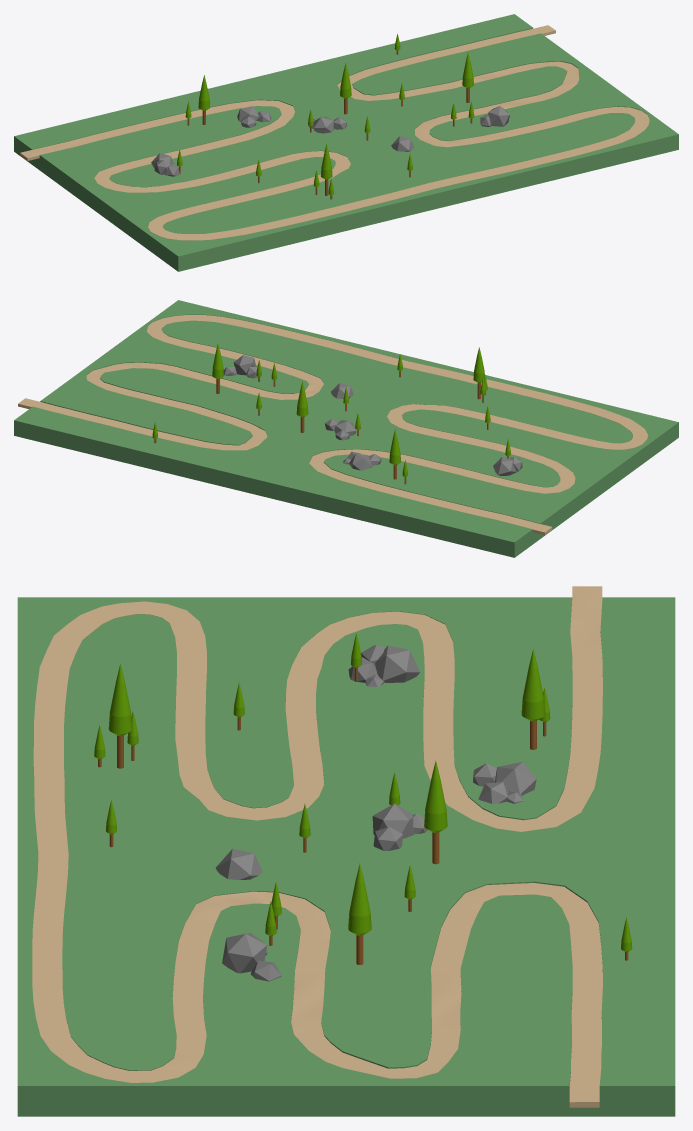
Rendered from Base Map.fbx.
The picture shows the model from 3 angles, top to bottom: view 1: azimuth 30°, elevation 25°; view 2: azimuth 150°, elevation 25°; view 3: azimuth 270°, elevation 25°; orthographic projection. The views are drawn at different scales.
Parts seen in each view (by area): view 1: Cube, Path; view 2: Cube, Path; view 3: Cube, Path, Icosphere.012, Icosphere.006, Cone, Cone.004, Cone.003, Cone.015, Icosphere.009, Icosphere.002, Icosphere.008.
Part boxes in pixels (left/top/right/bottom): Cube: left=14, top=14, right=678, bottom=271; Path: left=20, top=25, right=649, bottom=240; Cube: left=14, top=300, right=678, bottom=557; Path: left=18, top=315, right=647, bottom=535; Cube: left=17, top=597, right=675, bottom=1116; Path: left=32, top=586, right=602, bottom=1107; Icosphere.012: left=222, top=933, right=267, bottom=973; Icosphere.006: left=375, top=645, right=419, bottom=682; Cone: left=108, top=663, right=132, bottom=736; Cone.004: left=424, top=760, right=447, bottom=832; Cone.003: left=348, top=863, right=371, bottom=935; Cone.015: left=521, top=649, right=544, bottom=721; Icosphere.009: left=215, top=848, right=262, bottom=879; Icosphere.002: left=495, top=762, right=536, bottom=795; Icosphere.008: left=372, top=803, right=414, bottom=838.
Bounding box in the file's own units: 3579 × 437 × 1931.
